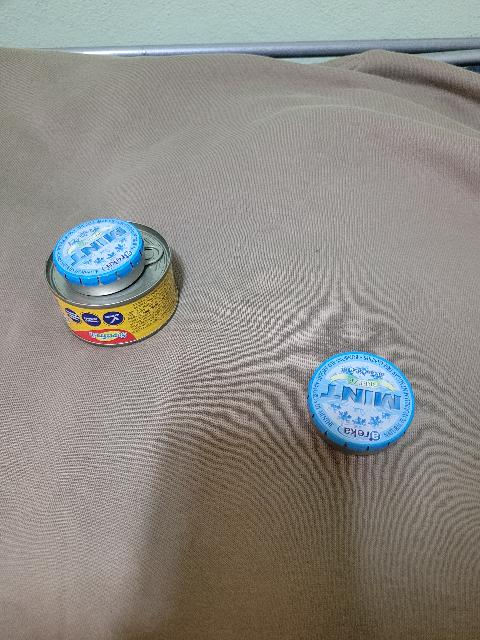Metal: (42, 221, 184, 349), (306, 351, 415, 459), (54, 217, 148, 298)
